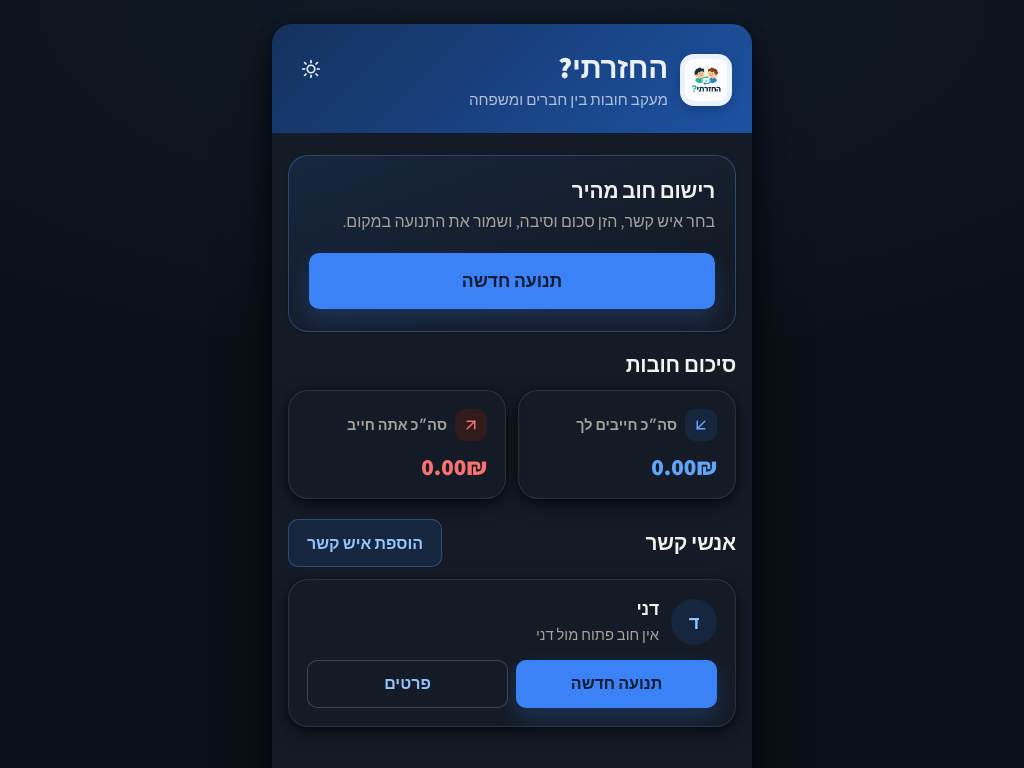
Test: App › Edit Member › opens edit form with current name pre-filled
Click the button "פרטים". click: (408, 684)
box: [307,660,508,708]
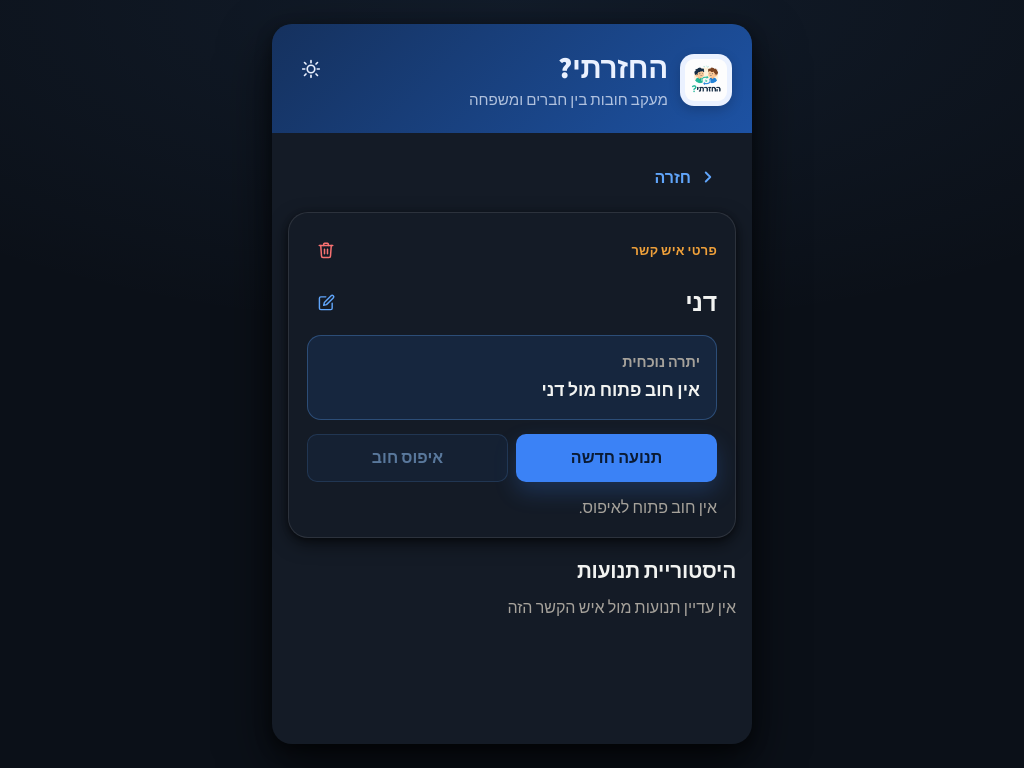
Click the button named "שינוי שם". click: (326, 302)
box: [307,283,345,321]
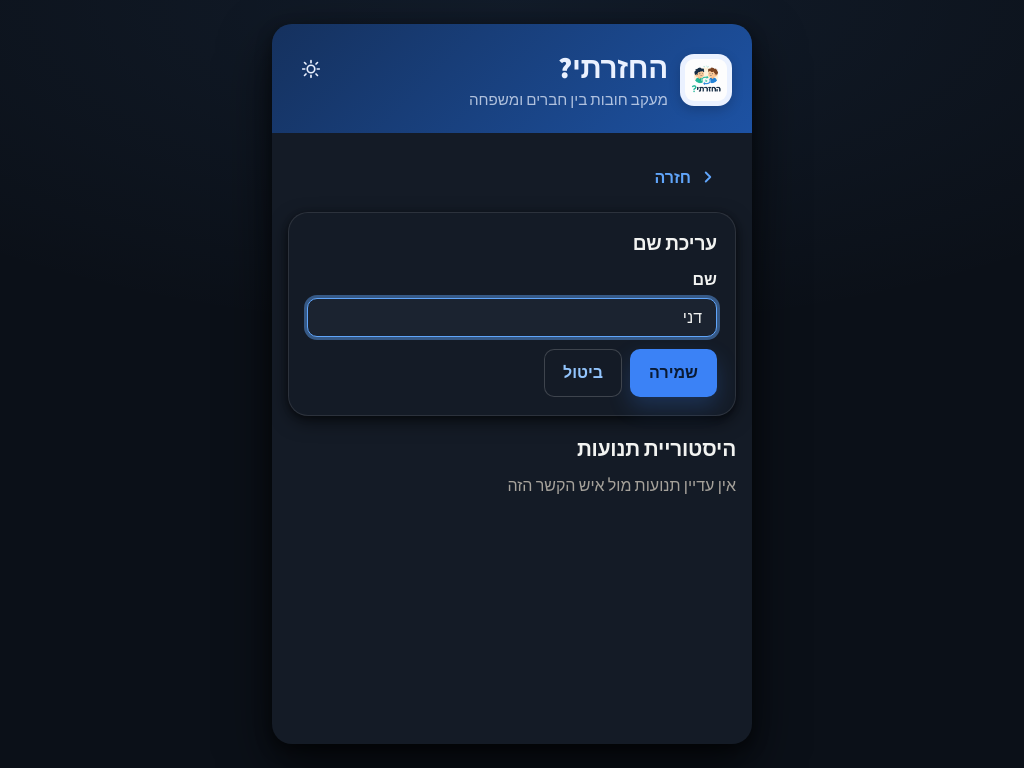
Check: the form "עריכת שם" is shown, box [307,231,717,397]
Check: the field labelled "שם" holds "דני", box [307,298,717,337]
